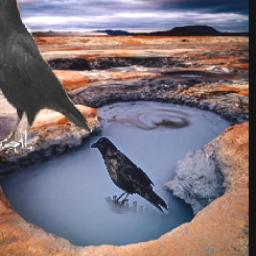Crow: (0, 0, 92, 155), (91, 137, 169, 215)
